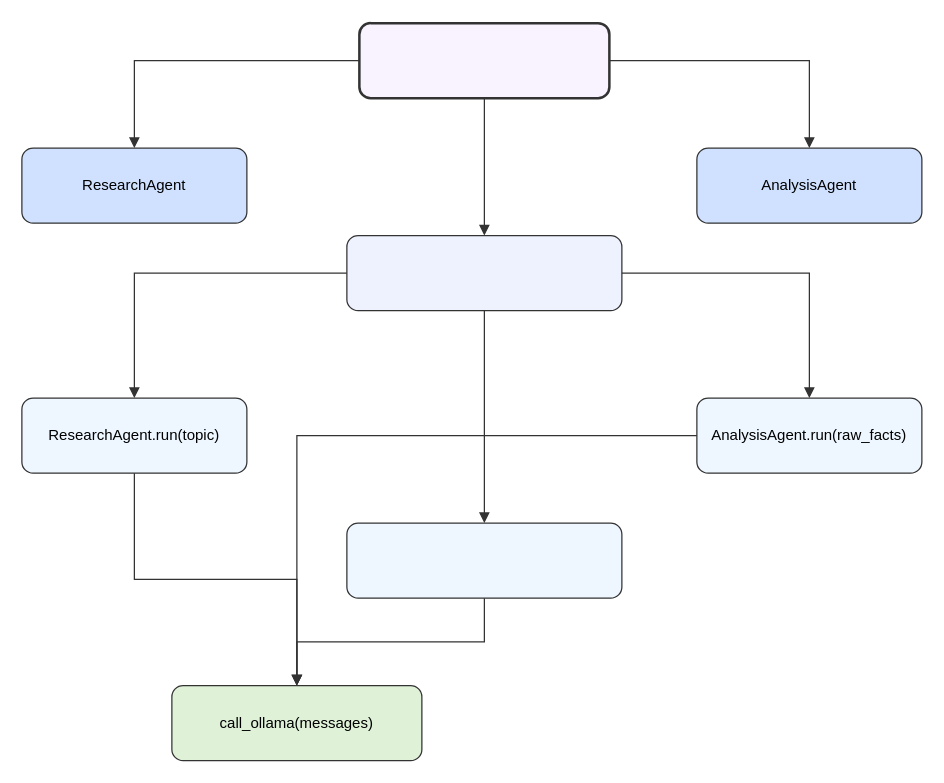
Image size: 944x783. Some labels were removed from this diagram. Here are the shapes that lost their labels. From the top down, the box of each, then its label:
(358, 21, 610, 99): SupervisorAgent (Raiz)
(346, 234, 622, 311): SupervisorAgent.run_cycle(topic)
(346, 522, 622, 598): SupervisorAgent.decide_action(topic, analysis)
